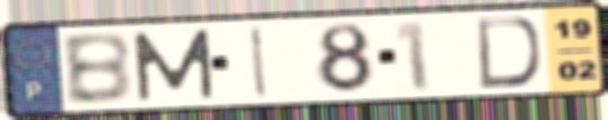1: (392, 18, 432, 93)
8: (311, 20, 378, 96)
B: (57, 30, 136, 107)
D: (474, 15, 544, 91)
I: (249, 24, 271, 100)
M: (129, 27, 218, 103)
